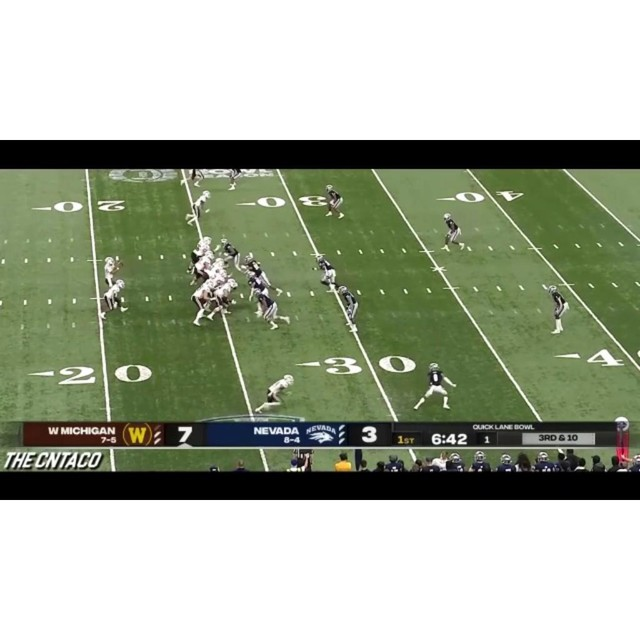american-football-player: (413, 361, 455, 411), (253, 287, 291, 331), (254, 374, 294, 413), (207, 280, 238, 321), (190, 280, 216, 326), (99, 279, 127, 320), (546, 284, 568, 335), (313, 253, 339, 293), (337, 285, 359, 332), (442, 213, 468, 252), (185, 237, 212, 273), (218, 237, 244, 272), (185, 190, 211, 225), (190, 252, 214, 287), (245, 271, 271, 300), (324, 184, 344, 219)
